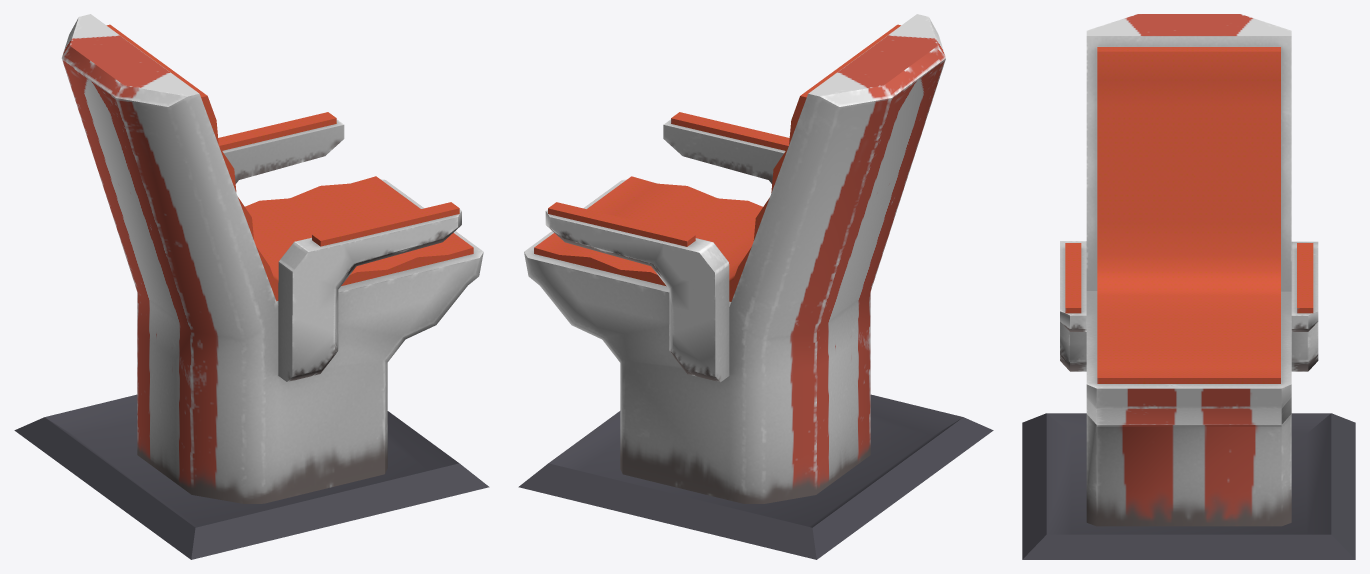
The model's file is PROP_003_PilotChair.fbx.
The picture shows the model from 3 angles, left to right: view 1: azimuth 30°, elevation 25°; view 2: azimuth 150°, elevation 25°; view 3: azimuth 270°, elevation 25°; orthographic projection. The views are drawn at different scales.
Parts seen in each view (by area): view 1: Plane_012; view 2: Plane_012; view 3: Plane_012.
Boxes of the visible parts, x1,y1,x2,y2 form: Plane_012: (14, 14, 489, 559); Plane_012: (518, 14, 993, 559); Plane_012: (1022, 14, 1355, 559).
Size of the model in its own units: 1.68 by 2 by 1.49.
1 material, 1 textured.
